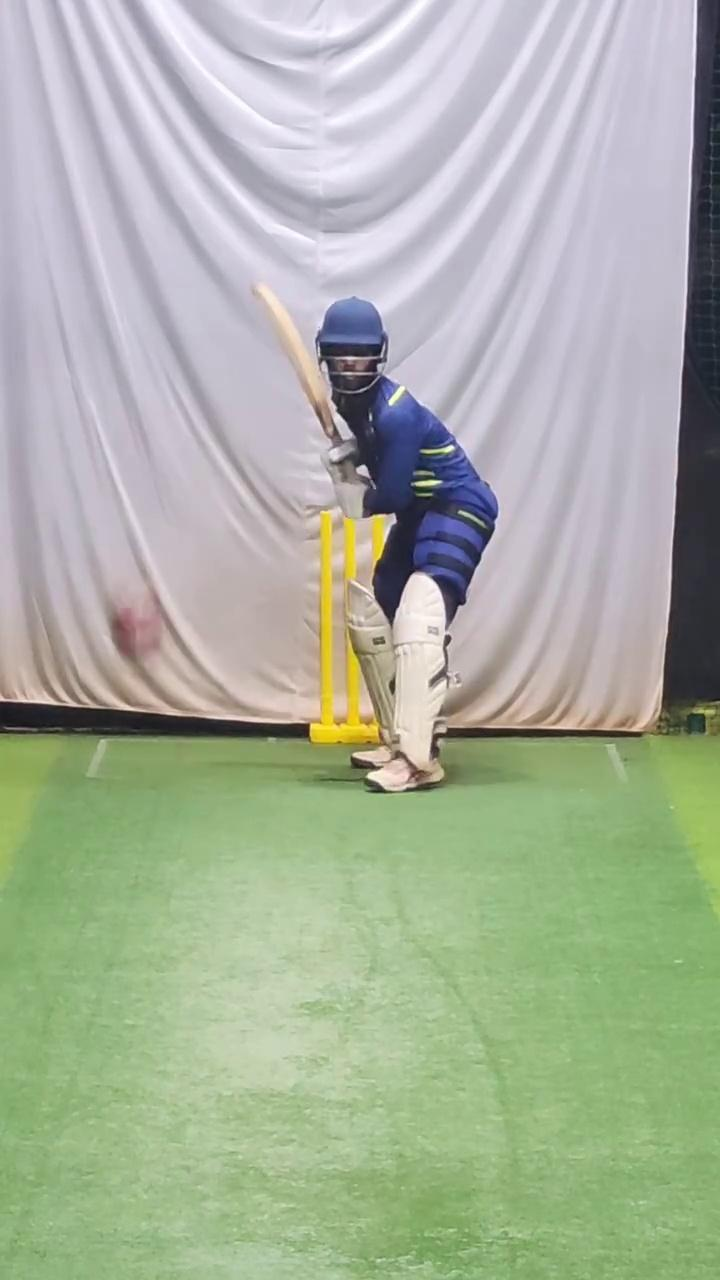bat: (245, 272, 341, 447)
